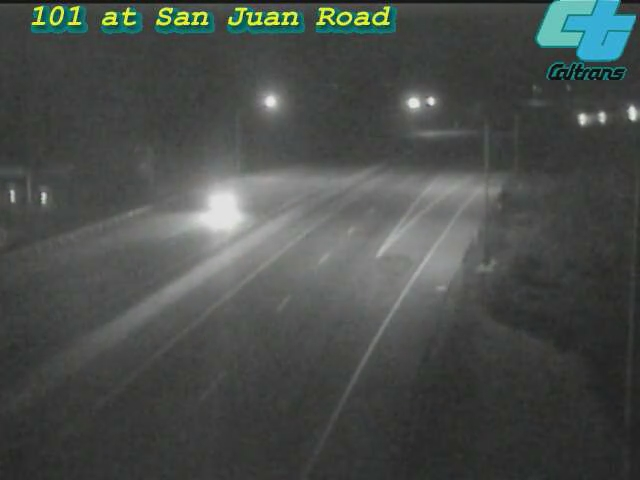vehicle: (184, 162, 264, 242), (1, 250, 55, 330), (575, 91, 625, 141), (549, 96, 599, 146), (607, 90, 640, 140)
